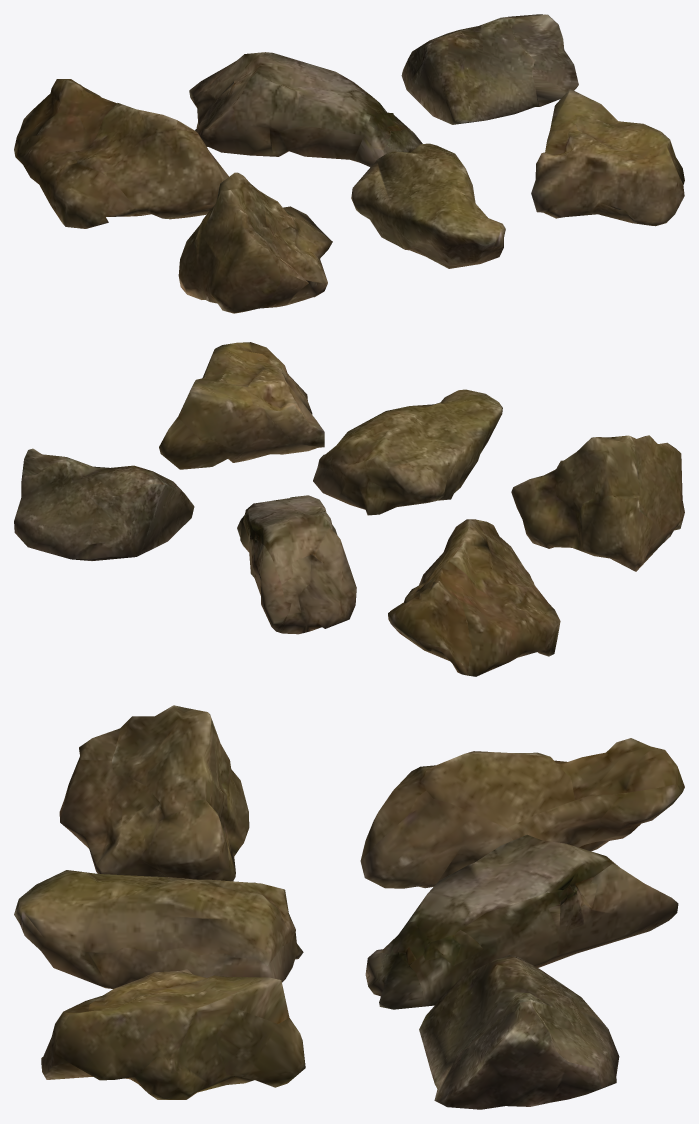
The model's file is rock_moss_set_01.glb.
3 views of the same model, one above another, from view 1: azimuth 30°, elevation 25°; view 2: azimuth 150°, elevation 25°; view 3: azimuth 270°, elevation 25° (orthographic). The views are drawn at different scales.
Visible parts, largest first — view 1: rock_moss_set_01_rock01; view 2: rock_moss_set_01_rock01; view 3: rock_moss_set_01_rock01.
Part boxes in pixels (x1,y1,x2,y2): rock_moss_set_01_rock01: (14, 14, 684, 313); rock_moss_set_01_rock01: (14, 342, 684, 676); rock_moss_set_01_rock01: (14, 705, 684, 1109).
Bounding box in the file's own units: 8 × 1.76 × 6.94.
Materials: 1 (1 with a texture image).
